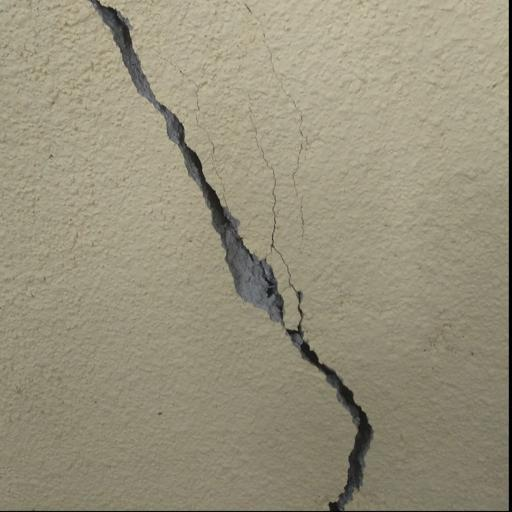major_crack: (62, 0, 391, 512)
